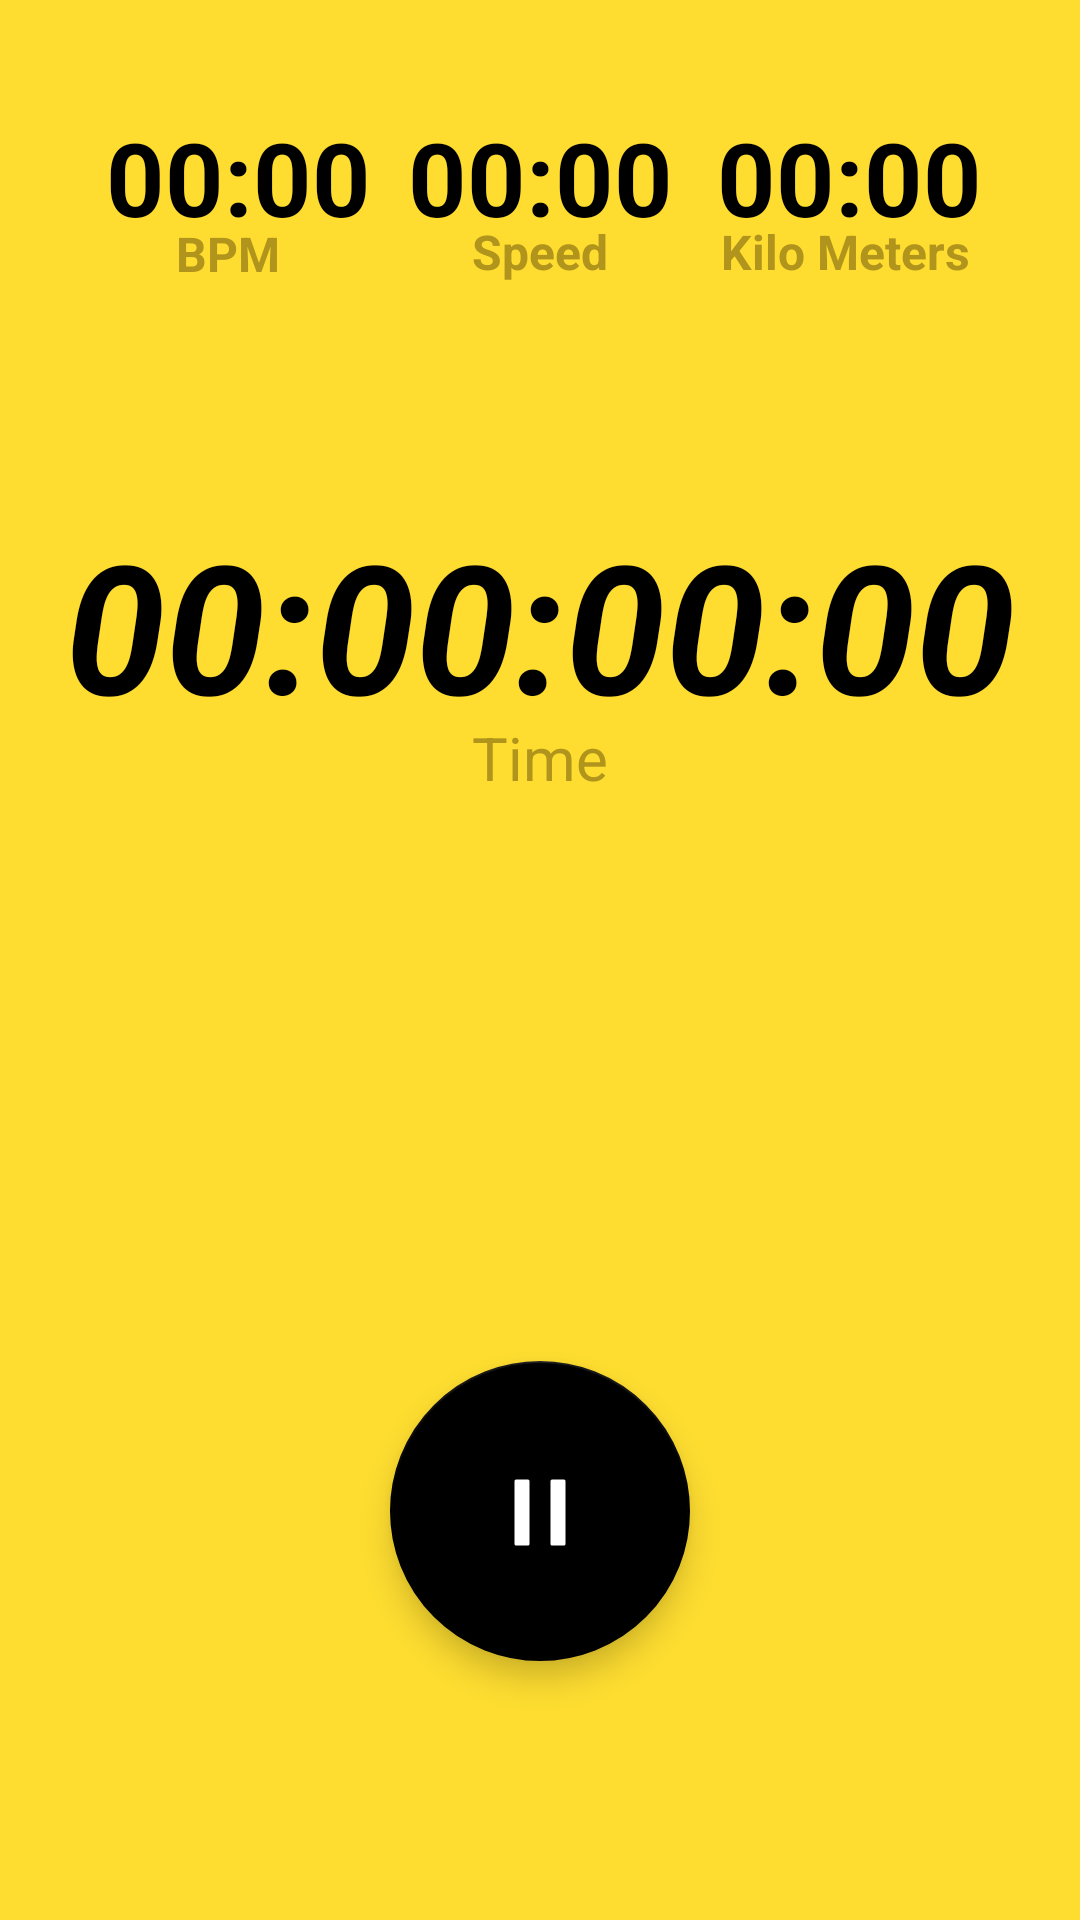

Where icons sit on this 1080*1920 app screen, as (x1, y1, x2, y2):
Pause Run: (390, 1361, 690, 1661)
